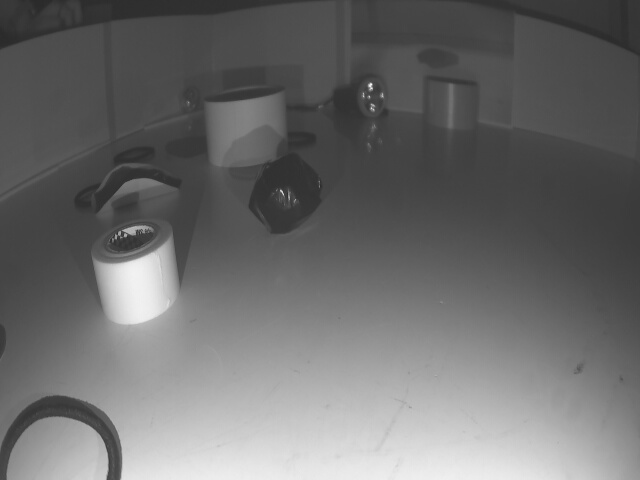Dead: (249, 153, 325, 231)
Live: (180, 86, 199, 111)
